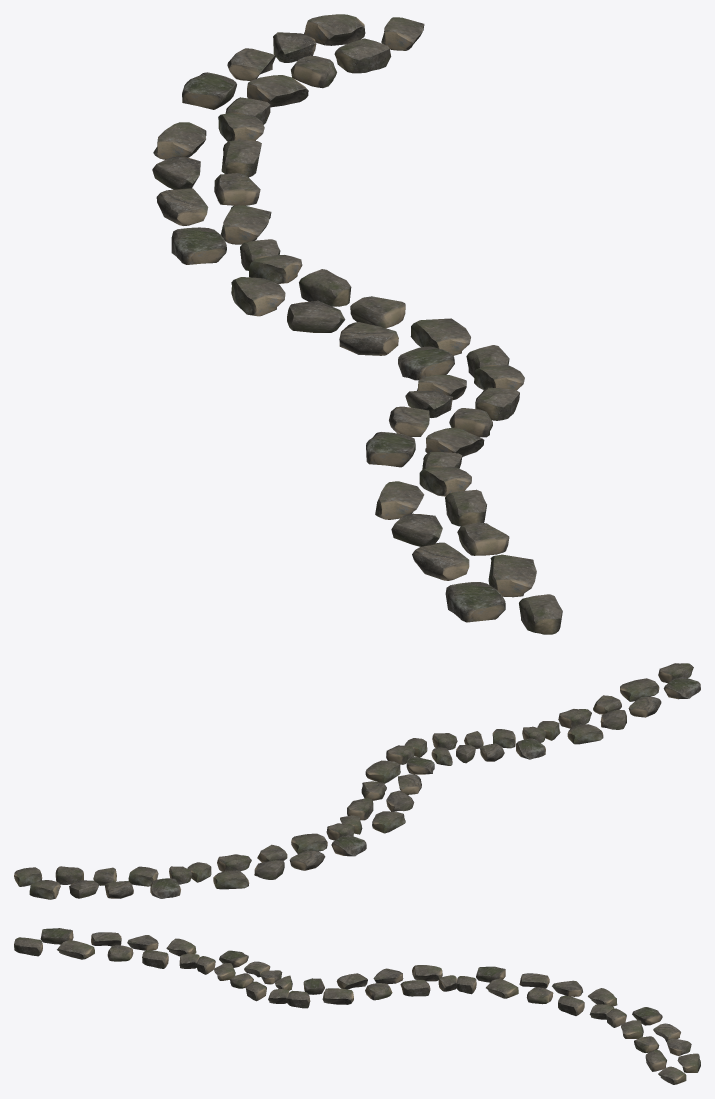
File: SM_Stone01D_Splines_18.fbx
3 views of the same model, one above another, from view 1: azimuth 30°, elevation 25°; view 2: azimuth 150°, elevation 25°; view 3: azimuth 270°, elevation 25° (orthographic). The views are drawn at different scales.
Parts seen in each view (by area): view 1: SM_Stone01D_Splines_18; view 2: SM_Stone01D_Splines_18; view 3: SM_Stone01D_Splines_18.
Boxes of the visible parts, left/top/right/bottom form: SM_Stone01D_Splines_18: left=152, top=14, right=562, bottom=634; SM_Stone01D_Splines_18: left=14, top=663, right=700, bottom=899; SM_Stone01D_Splines_18: left=14, top=928, right=700, bottom=1084.
Size of the model in its own units: 531 by 1074 by 30.66.
